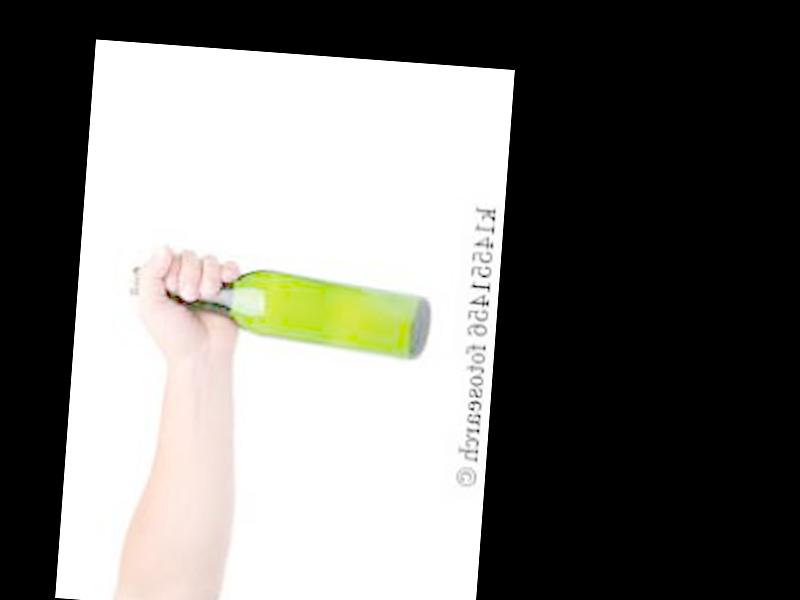Beer: (127, 260, 433, 362)
